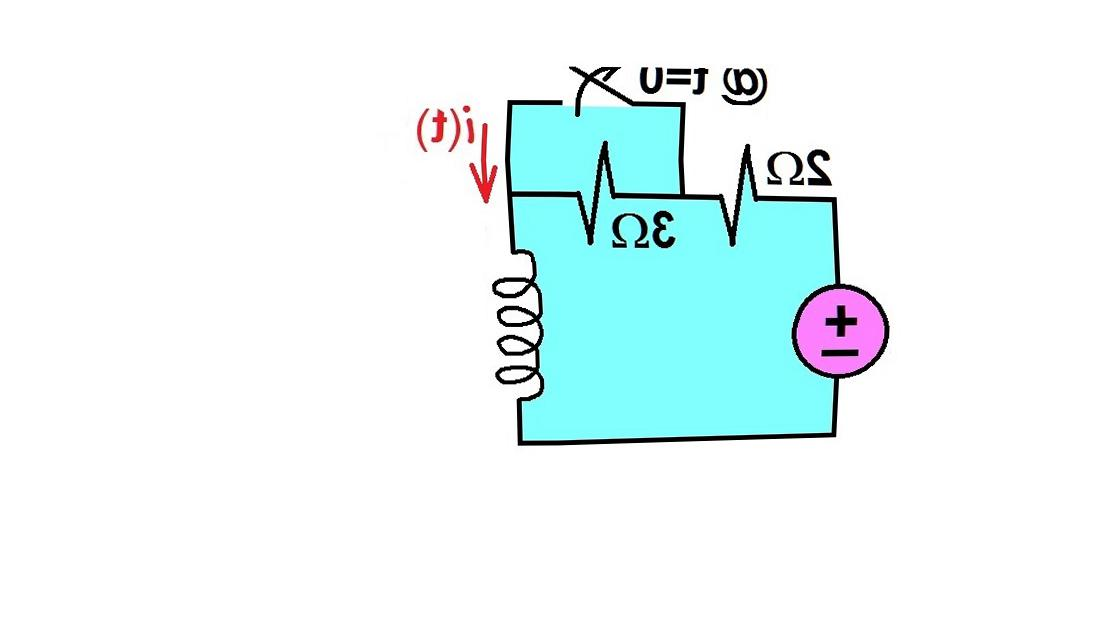Battery: (762, 269, 907, 388)
